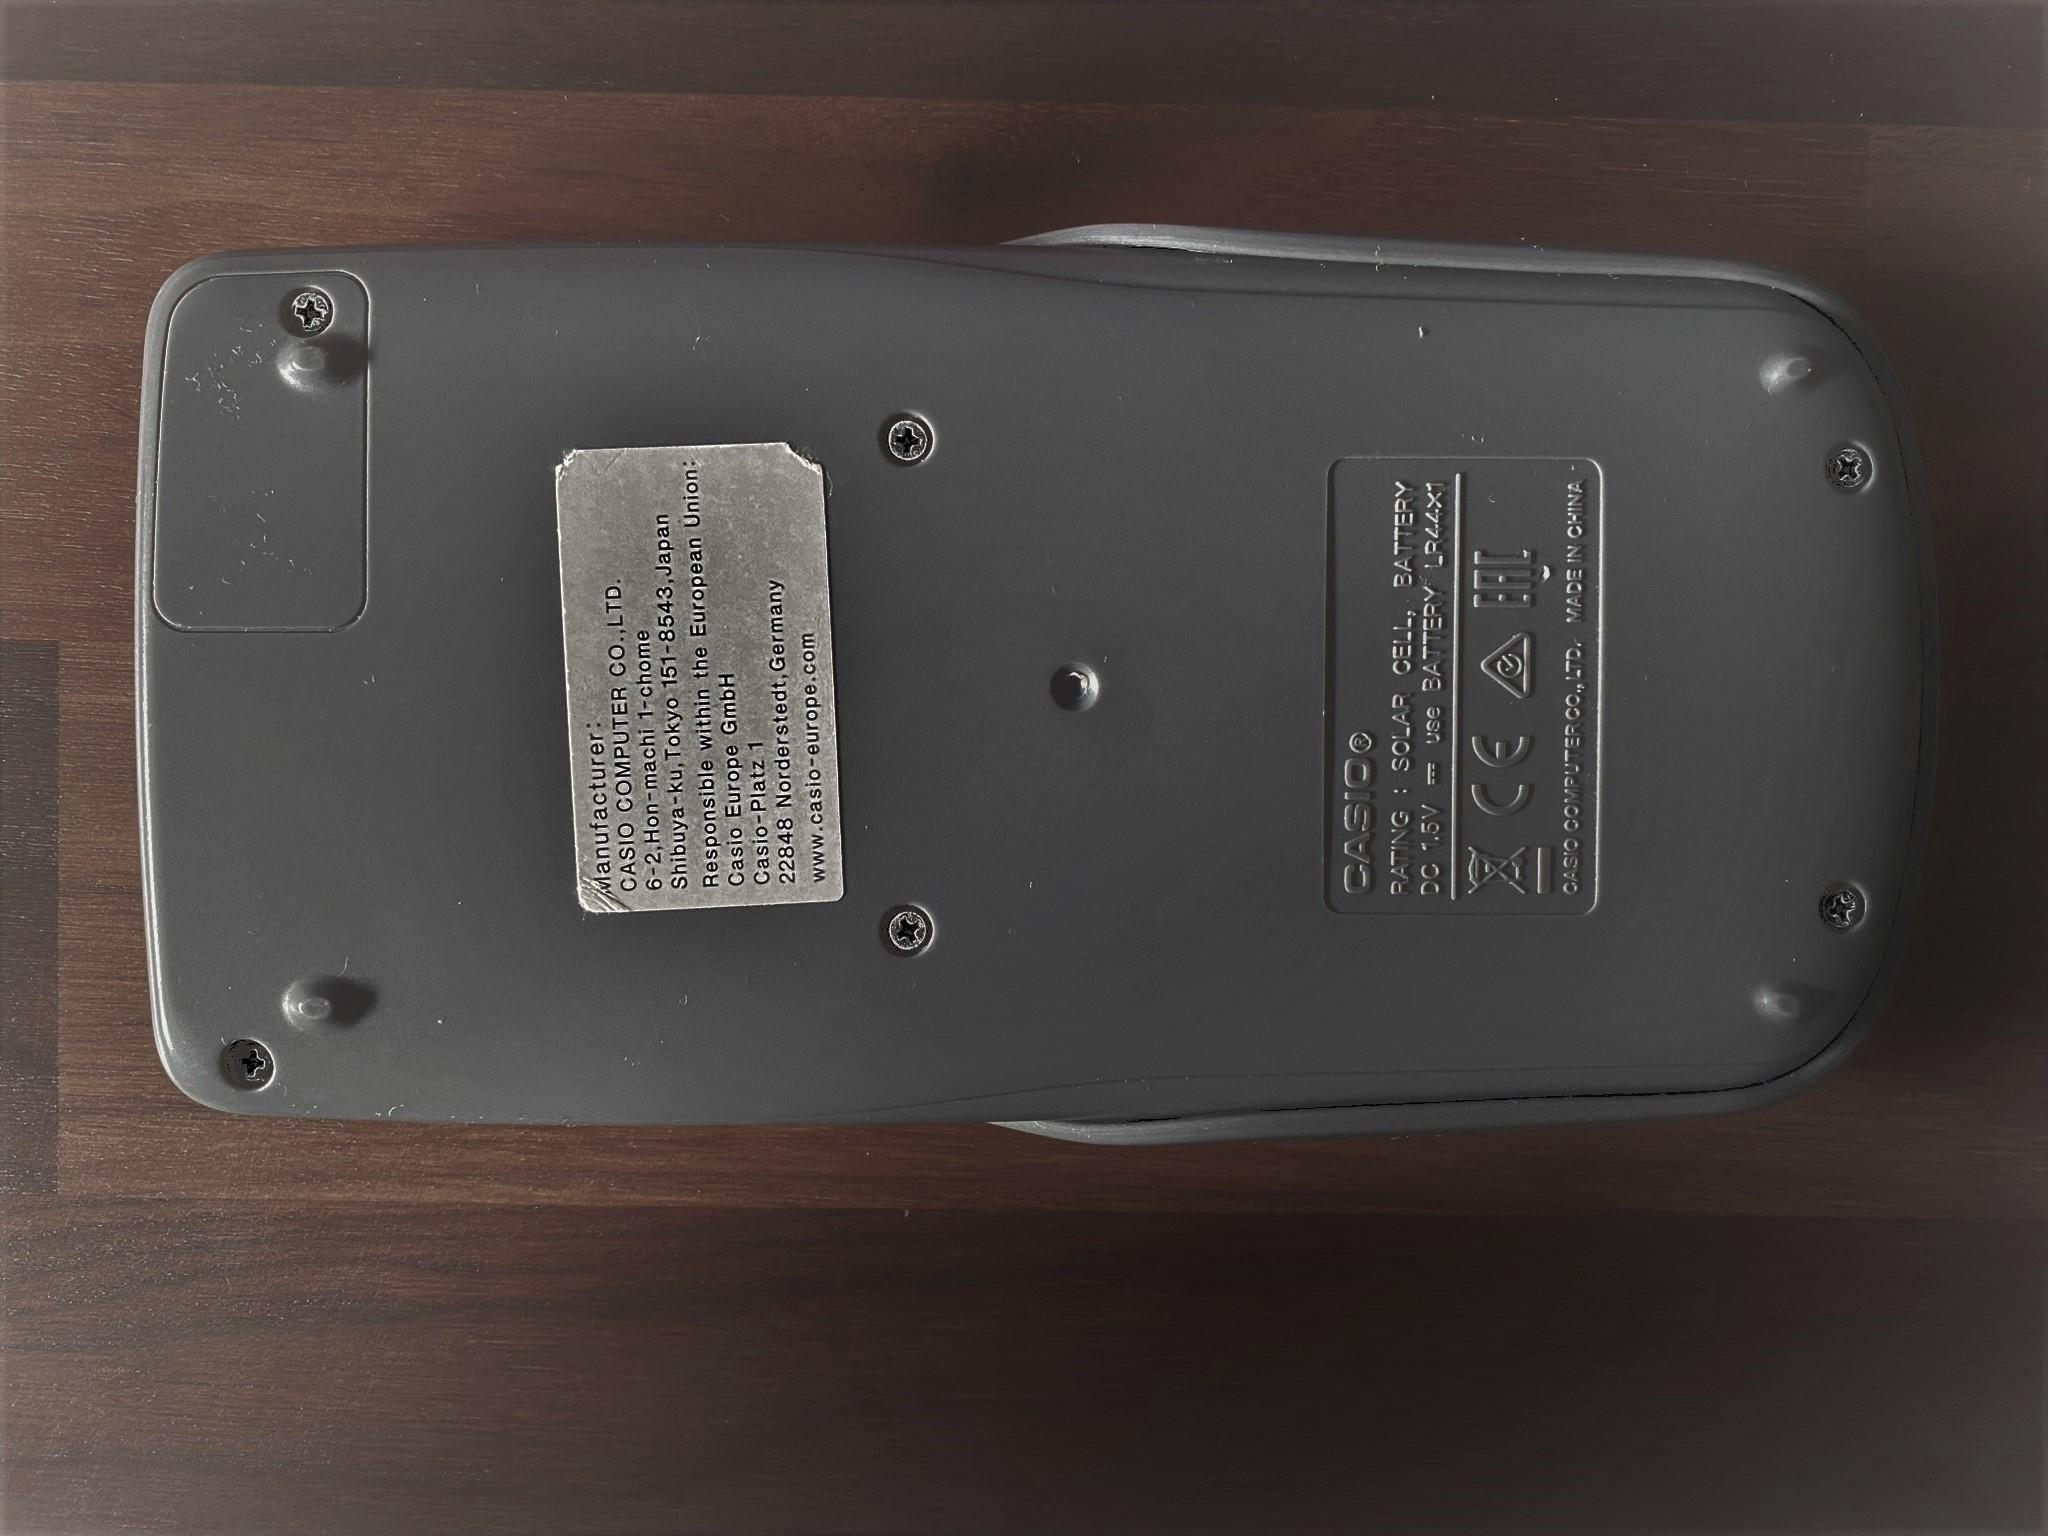PH: (224, 1037, 277, 1091), (1824, 442, 1871, 492), (885, 416, 932, 465), (884, 907, 932, 954), (284, 287, 332, 332), (1821, 887, 1864, 929)
